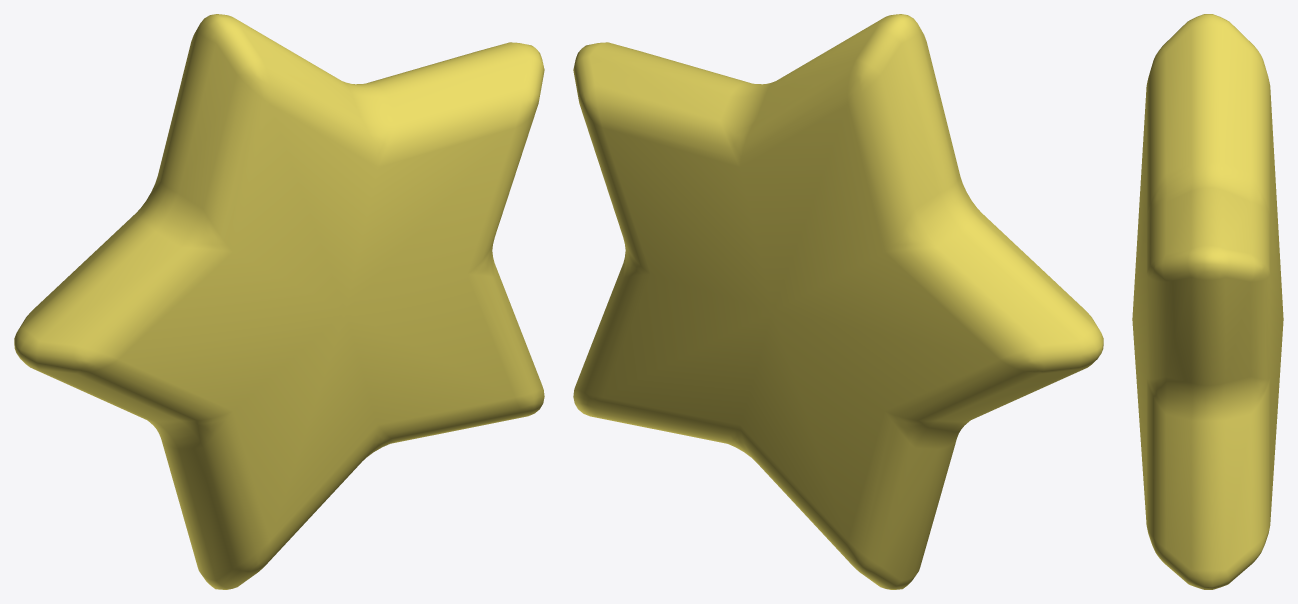
The model's file is Star.glb.
3 renders of one model, left to right at view 1: azimuth 30°, elevation 25°; view 2: azimuth 150°, elevation 25°; view 3: azimuth 270°, elevation 25°, orthographic. The views are drawn at different scales.
Visible parts, largest first — view 1: Star; view 2: Star; view 3: Star.
Part boxes in pixels (box(x1,y1,x2,y2)): Star: box(14, 14, 544, 589); Star: box(573, 14, 1103, 589); Star: box(1132, 14, 1283, 589).
Bounding box in the file's own units: 2.03 × 2.13 × 0.5498.
